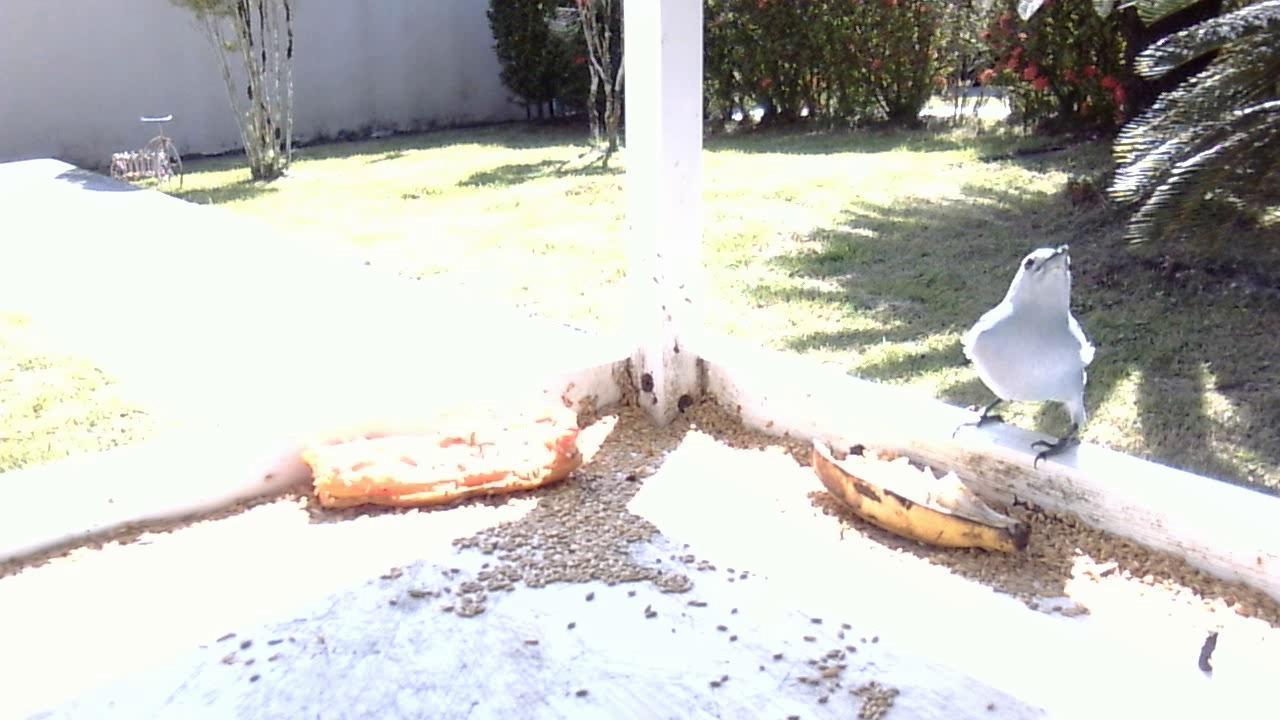sanhaco_da_amazonia: (944, 234, 1105, 474)
